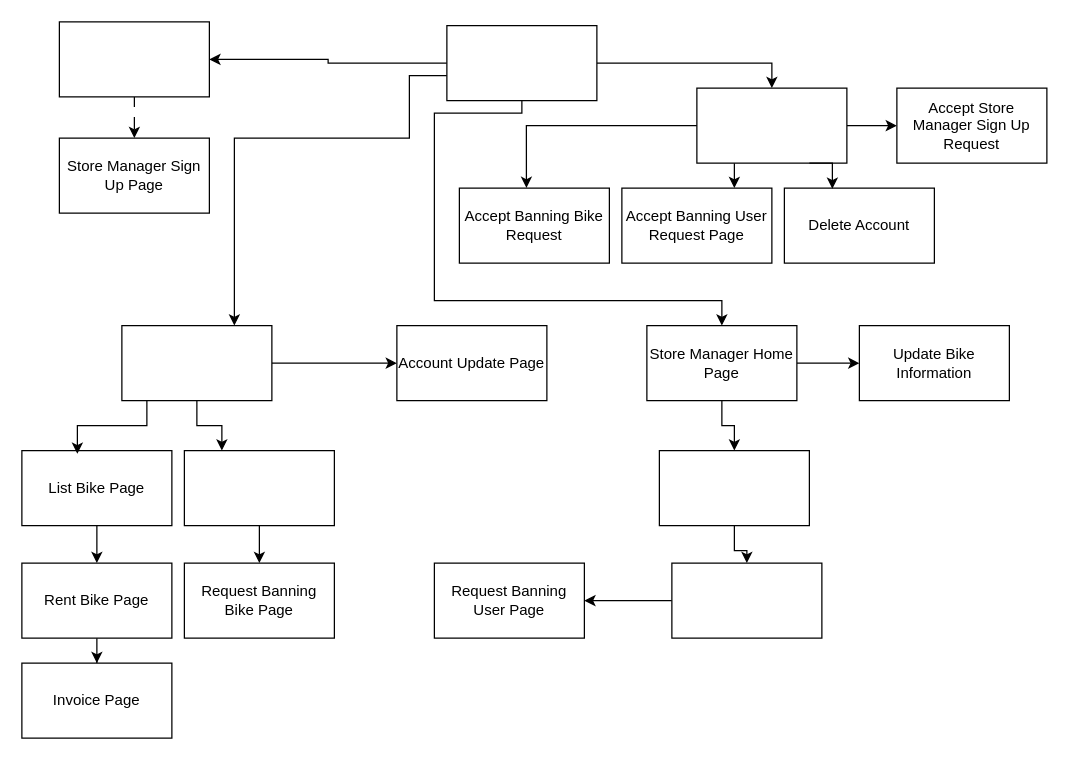
The diagram is 1069 pixels wide and 760 high, and some of its shapes have lost their labels. Each missing label, with the box of its shape:
Add Bike Page: (658, 449, 809, 526)
Admin Home Page: (696, 87, 847, 163)
All Rented Bike Page(ManagerID): (671, 562, 822, 638)
All Rented Bike Page(UserID): (183, 449, 334, 526)
Sign Up Page: (58, 21, 209, 97)
Splash Page: (446, 24, 597, 101)
User Home Page: (121, 324, 272, 401)
